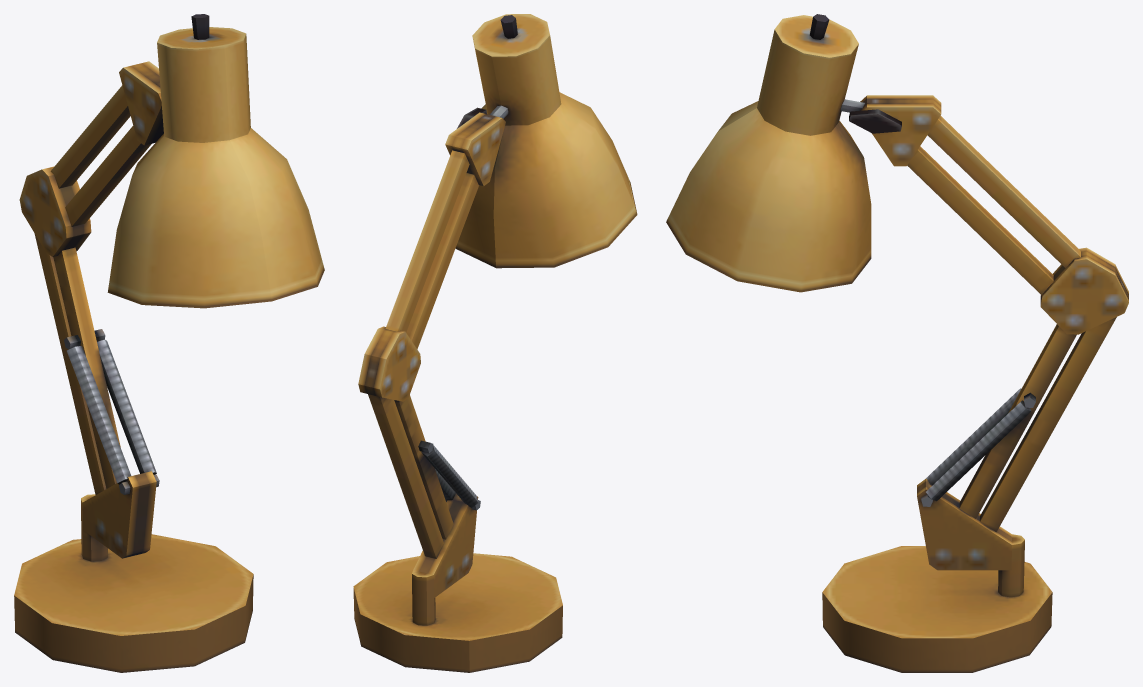
File: lamparaEscritorio.fbx
3 views of the same model, side by side, from view 1: azimuth 30°, elevation 25°; view 2: azimuth 150°, elevation 25°; view 3: azimuth 270°, elevation 25° (orthographic). The views are drawn at different scales.
Parts seen in each view (by area): view 1: s4studio_mesh_1; view 2: s4studio_mesh_1; view 3: s4studio_mesh_1.
Part boxes in pixels (x1=…): s4studio_mesh_1: x1=14, y1=14, x2=324, y2=672; s4studio_mesh_1: x1=353, y1=14, x2=637, y2=672; s4studio_mesh_1: x1=666, y1=14, x2=1128, y2=672.
Bounding box in the file's own units: 22.03 × 68 × 46.58.
Materials: 1 (1 with a texture image).
